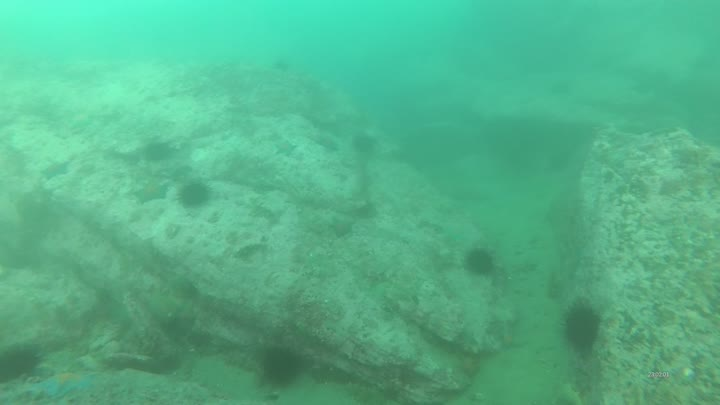echinus: (560, 295, 606, 354), (257, 346, 305, 393), (1, 345, 50, 389), (460, 245, 498, 279), (178, 178, 214, 211)
starfish: (25, 370, 104, 402), (130, 180, 172, 208), (39, 163, 72, 184), (65, 110, 95, 130), (274, 139, 300, 159)
